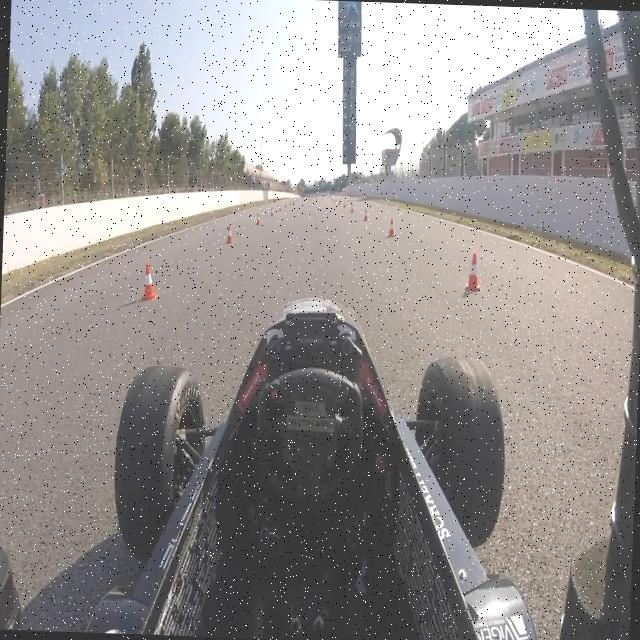orange_cone: (464, 250, 484, 294), (142, 258, 160, 302), (224, 222, 234, 245), (386, 216, 396, 238), (255, 210, 261, 226), (362, 207, 368, 222), (270, 205, 274, 218)
